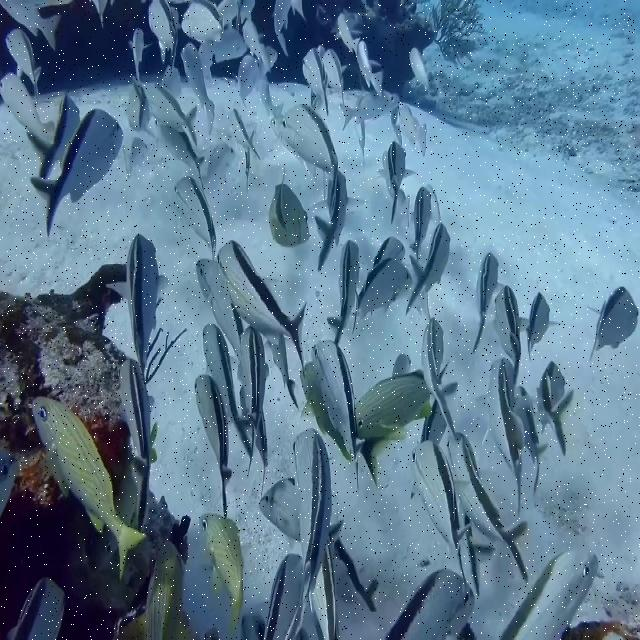fish: (32, 397, 147, 583), (217, 240, 308, 374), (448, 431, 528, 583), (30, 109, 124, 237), (106, 234, 169, 380), (476, 359, 534, 516), (501, 550, 599, 639), (312, 340, 360, 492), (409, 440, 473, 554), (292, 429, 331, 600), (202, 325, 251, 456), (385, 570, 476, 639), (308, 172, 369, 270), (355, 369, 434, 440), (119, 357, 150, 529), (199, 512, 243, 633), (196, 260, 245, 361), (194, 374, 229, 515), (27, 93, 80, 177), (240, 327, 269, 476), (353, 259, 413, 331), (279, 103, 339, 173), (406, 224, 450, 314), (420, 318, 454, 434), (489, 286, 529, 384), (587, 286, 638, 359), (146, 543, 184, 639), (154, 119, 206, 188), (0, 72, 53, 138), (174, 176, 217, 257), (265, 553, 305, 639), (538, 362, 574, 456), (8, 579, 65, 638), (328, 239, 360, 342), (472, 252, 504, 354), (181, 43, 215, 135), (145, 86, 197, 144), (0, 1, 60, 51), (258, 479, 300, 540), (269, 184, 310, 246), (5, 29, 41, 99), (387, 141, 417, 224), (526, 291, 562, 359), (267, 333, 299, 409), (311, 538, 335, 639), (183, 0, 224, 41), (409, 187, 432, 260), (303, 48, 328, 115), (129, 29, 153, 83), (375, 237, 406, 266)
